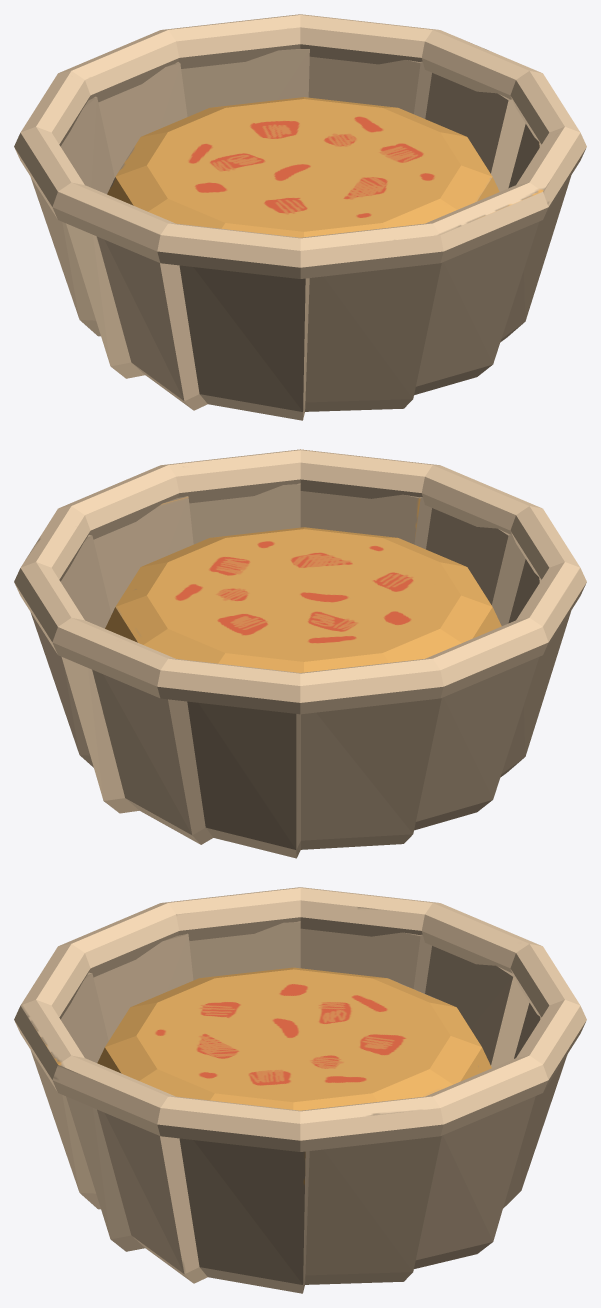
Rendered from 醬汁3_塗色完成.fbx.
3 renders of one model, top to bottom at view 1: azimuth 30°, elevation 25°; view 2: azimuth 150°, elevation 25°; view 3: azimuth 270°, elevation 25°, orthographic.
Parts seen in each view (by area): view 1: Circle.003; view 2: Circle.003; view 3: Circle.003.
Boxes of the visible parts, bbox=[...] form: Circle.003: bbox=[14, 14, 586, 420]; Circle.003: bbox=[14, 449, 586, 858]; Circle.003: bbox=[14, 887, 586, 1293].
Size of the model in its own units: 51.65 by 20.82 by 51.65.
